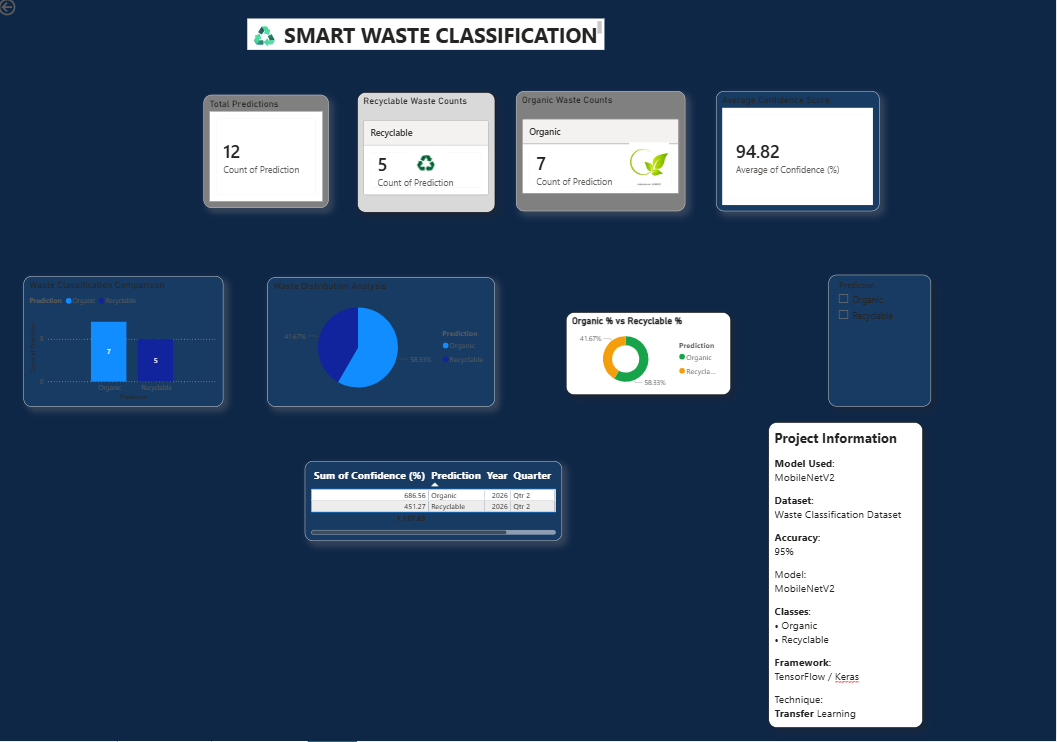

The dashboard page shown, as its layout file describes it:
{"tool":"powerbi","page":{"name":"Page 1","canvas":[1920,1350],"ordinal":0},"visuals":[{"type":"actionButton","box":[0,0,100,40],"z":0},{"type":"pieChart","title":"Waste Distribution Analysis","fields":{"Category":["prediction_history.Prediction"],"Y":["CountNonNull(prediction_history.Prediction)"]},"box":[490.1,509.2,412,234.5],"z":1000},{"type":"cardVisual","title":"Total Predictions","fields":{"Data":["CountNonNull(prediction_history.Prediction)"]},"box":[376.1,179.6,226.1,204.9],"z":2000},{"type":"cardVisual","title":"Organic Waste Counts","fields":{"Data":["CountNonNull(prediction_history.Prediction)"],"Rows":["prediction_history.Prediction"]},"box":[940.1,171.1,306.3,217.6],"z":3000},{"type":"cardVisual","title":"Average Confidence Score","fields":{"Data":["Avg(prediction_history.Confidence (%))"]},"box":[1303.5,171.1,295.8,217.6],"z":4000},{"type":"textbox","box":[454.2,40.1,646.5,57],"z":5000},{"type":"columnChart","title":"Waste Classification Comparison","fields":{"Category":["prediction_history.Prediction"],"Y":["CountNonNull(prediction_history.Prediction)"],"Series":["prediction_history.Prediction"]},"box":[50.7,507,361.3,236.6],"z":6000},{"type":"tableEx","fields":{"Values":["Sum(prediction_history.Confidence (%))","prediction_history.Prediction","prediction_history.Time.Variation.Date Hierarchy.Year","prediction_history.Time.Variation.Date Hierarchy.Quarter","prediction_history.Time.Variation.Date Hierarchy.Month","prediction_history.Time.Variation.Date Hierarchy.Day"]},"box":[558.7,841.5,466,144.8],"z":8000},{"type":"slicer","fields":{"Values":["prediction_history.Prediction"]},"box":[1506.3,504.9,185.9,238.7],"z":9000},{"type":"cardVisual","title":"Recyclable Waste Counts","fields":{"Data":["CountNonNull(prediction_history.Prediction)"],"Rows":["prediction_history.Prediction"]},"box":[652.8,173.2,249.3,217.6],"z":10000},{"type":"image","box":[733.1,283.1,88.7,40.1],"z":11000},{"type":"image","box":[1134.5,264.1,93,78.2],"z":11001},{"type":"textbox","box":[1397.5,771.6,279,553],"z":11002},{"type":"donutChart","title":"Organic % vs Recyclable %","fields":{"Category":["prediction_history.Prediction"],"Y":["CountNonNull(prediction_history.Prediction)"]},"box":[1031.5,572.3,298.6,149.3],"z":11003}]}

Visuals, with their boxes in screenshot pixels (x1, y1, x2, y2), scaled from the page's 1920x1350 canvas onto the 1057x742 screenshot:
actionButton: [0, 0, 55, 22]
"Waste Distribution Analysis" pieChart: [270, 280, 497, 409]
"Total Predictions" cardVisual: [207, 99, 332, 211]
"Organic Waste Counts" cardVisual: [518, 94, 686, 214]
"Average Confidence Score" cardVisual: [718, 94, 880, 214]
textbox: [250, 22, 606, 53]
"Waste Classification Comparison" columnChart: [28, 279, 227, 409]
tableEx - Sum(prediction_history.Confidence (%)) x prediction_history.Prediction: [308, 463, 564, 542]
slicer - prediction_history.Prediction: [829, 278, 932, 409]
"Recyclable Waste Counts" cardVisual: [359, 95, 497, 215]
image: [404, 156, 452, 178]
image: [625, 145, 676, 188]
textbox: [769, 424, 923, 728]
"Organic % vs Recyclable %" donutChart: [568, 315, 732, 397]
